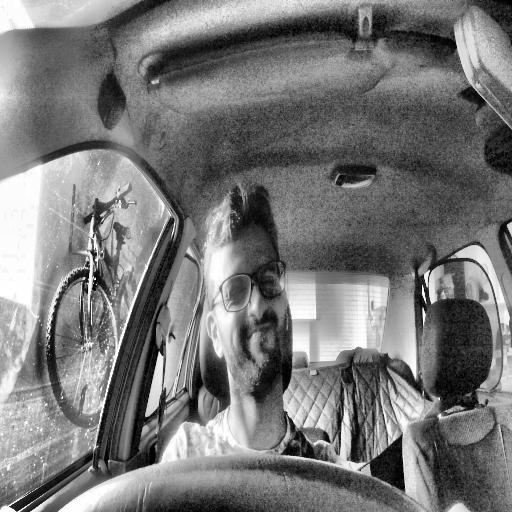drowsy: (203, 184, 289, 414)
